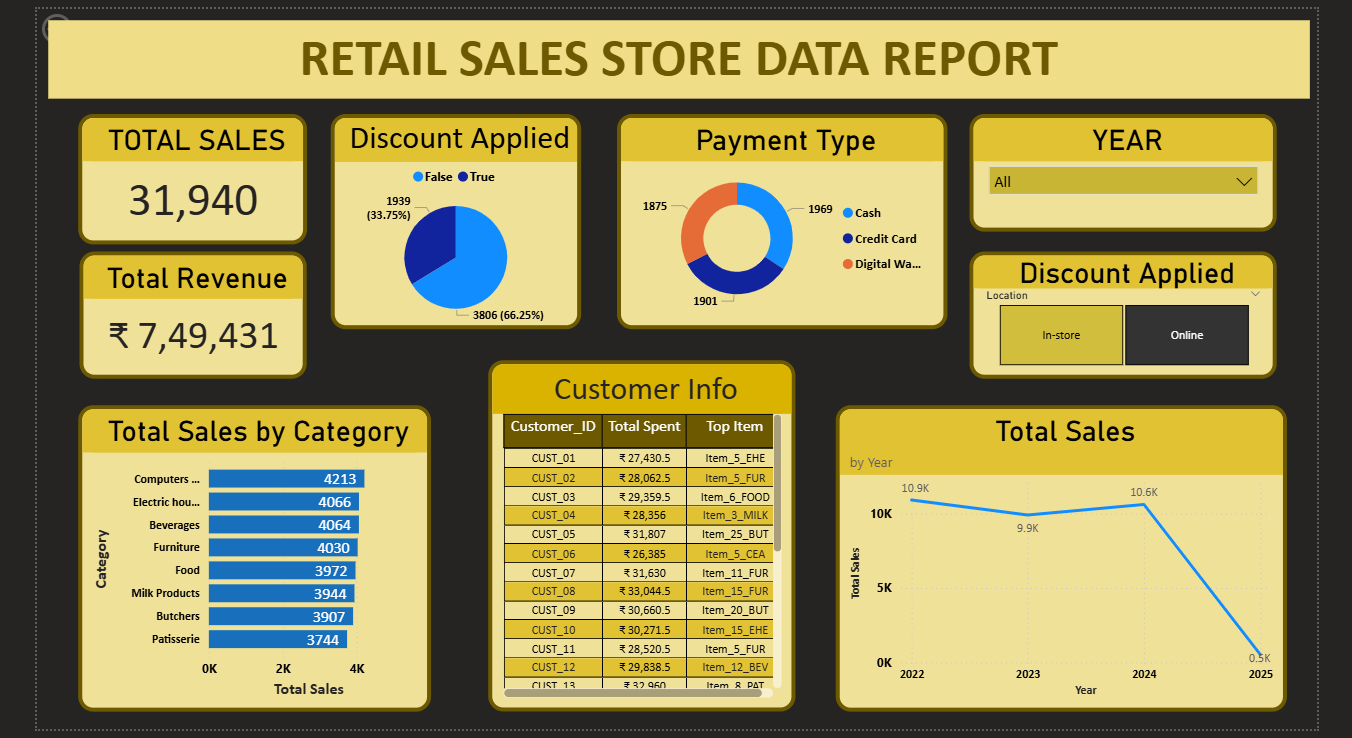

The page's visual inventory and layout, read from the dashboard file:
{"tool":"powerbi","page":{"name":"Page 1","canvas":[1280,720],"ordinal":0},"visuals":[{"type":"card","title":"TOTAL SALES","fields":{"Values":["Retail_Cleaned.Total Sales"]},"box":[41.2,105,228.8,130],"z":0},{"type":"card","title":"Total Revenue","fields":{"Values":["Retail_Cleaned.Total Revenue"]},"box":[42.5,242.5,227.5,127.5],"z":1000},{"type":"clusteredBarChart","fields":{"Y":["Retail_Cleaned.Total Sales"],"Category":["Retail_Cleaned.Category"]},"box":[41.2,396.2,352.5,306.2],"z":2000},{"type":"lineChart","fields":{"Y":["Retail_Cleaned.Total Sales"],"Category":["Retail_Cleaned.Transaction_Date.Variation.Date Hierarchy.Year","Retail_Cleaned.Transaction_Date.Variation.Date Hierarchy.Quarter","Retail_Cleaned.Transaction_Date.Variation.Date Hierarchy.Month","Retail_Cleaned.Transaction_Date.Variation.Date Hierarchy.Day"]},"box":[798.8,396.2,451.2,306.2],"z":3000},{"type":"slicer","title":"YEAR","fields":{"Values":["Retail_Cleaned.Transaction_Date.Variation.Date Hierarchy.Year"]},"box":[932.5,105,307.5,117.5],"z":4000},{"type":"donutChart","title":"Payment Type","fields":{"Category":["Retail_Cleaned.Payment_Method"],"Y":["Retail_Cleaned.Payment count"]},"box":[580,105,330,215],"z":5000},{"type":"pieChart","title":"Discount Applied","fields":{"Category":["Retail_Cleaned.Discount_Applied"],"Y":["CountNonNull(Retail_Cleaned.Discount_Applied)"]},"box":[293.8,105,250,215],"z":6000},{"type":"slicer","title":"Discount Applied","fields":{"Values":["Retail_Cleaned.Location"]},"box":[932.5,242.5,307.5,127.5],"z":7000},{"type":"tableEx","title":"Customer Info","fields":{"Values":["Retail_Cleaned.Customer_ID","Sum(Retail_Cleaned.Total_Spent)","Retail_Cleaned.Top Item Customers"]},"box":[451.2,351.2,307.5,351.2],"z":8000},{"type":"actionButton","box":[0,0,100,40],"z":9000},{"type":"textbox","box":[11.2,11.2,1261.2,78.8],"z":10000}]}

Visuals, with their boxes on the page's 1280x720 design canvas (x1, y1, x2, y2). These are canvas units, not pixel positions in the 1352x738 screenshot, which may show the page scaled, cropped or inside an application window:
"TOTAL SALES" card: 41/105/270/235
"Total Revenue" card: 42/242/270/370
clusteredBarChart - Retail_Cleaned.Total Sales x Retail_Cleaned.Category: 41/396/394/702
lineChart - Retail_Cleaned.Total Sales x Retail_Cleaned.Transaction_Date.Variation.Date Hierarchy.Year: 799/396/1250/702
"YEAR" slicer: 932/105/1240/222
"Payment Type" donutChart: 580/105/910/320
"Discount Applied" pieChart: 294/105/544/320
"Discount Applied" slicer: 932/242/1240/370
"Customer Info" tableEx: 451/351/759/702
actionButton: 0/0/100/40
textbox: 11/11/1272/90
